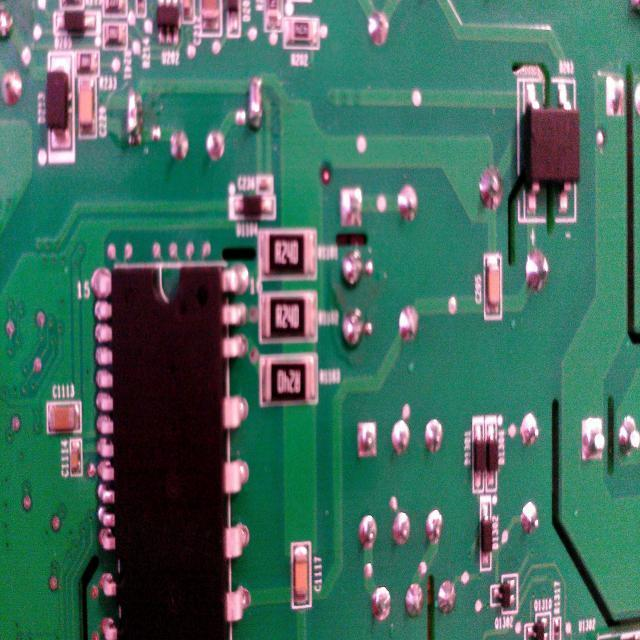Soldering shorted: (242, 66, 268, 134), (123, 85, 148, 148)
